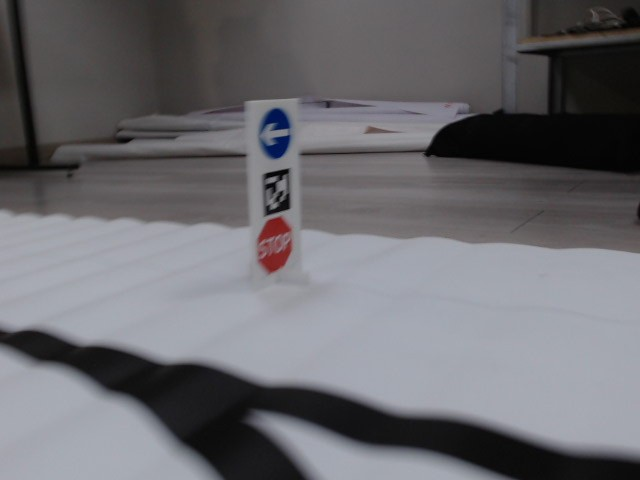Stop: (256, 214, 294, 273)
